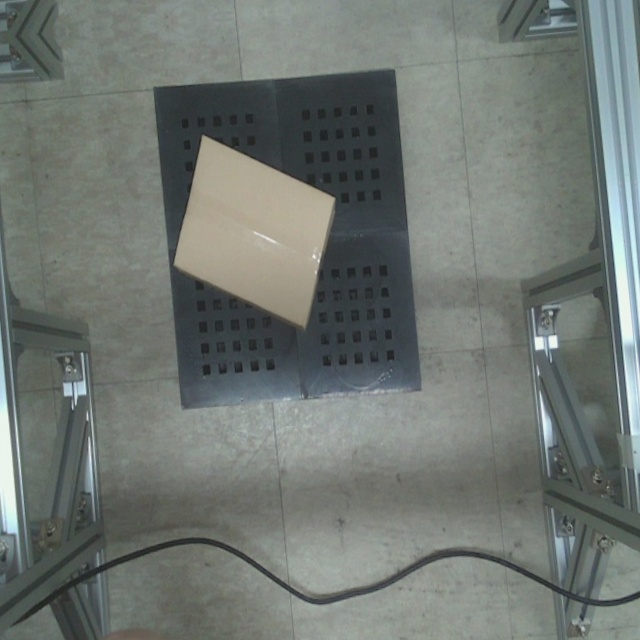box: (170, 131, 341, 332)
pallet: (146, 58, 426, 418)
